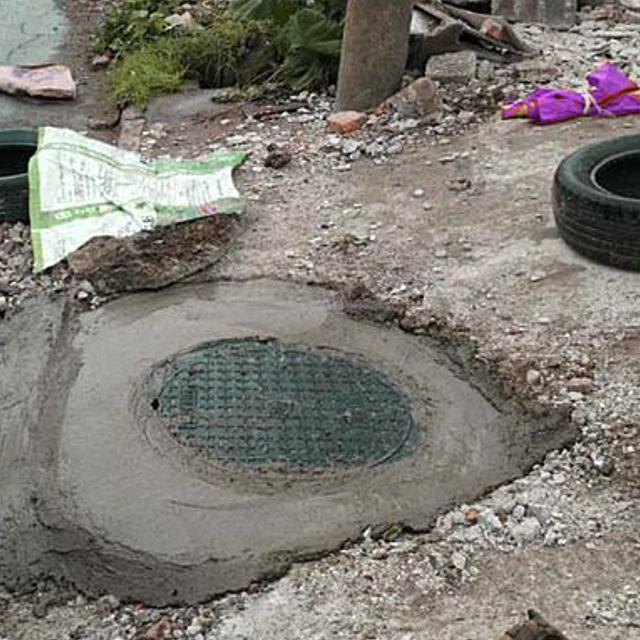good: (0, 275, 576, 603), (0, 285, 23, 640)
